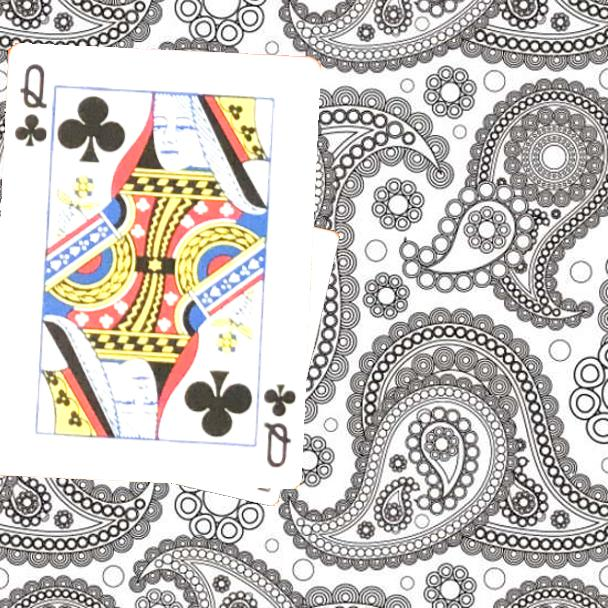c12: (259, 380, 299, 470), (10, 60, 50, 149)
